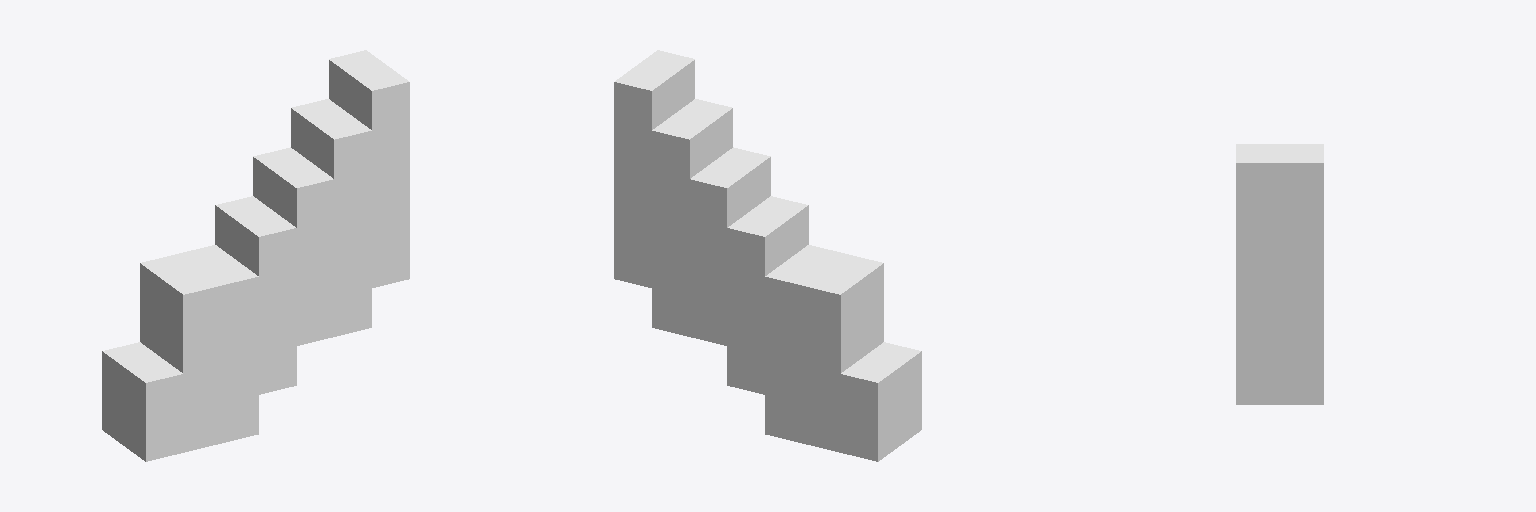
Rendered from dad-0.obj.
The picture shows the model from 3 angles: view 1: azimuth 30°, elevation 25°; view 2: azimuth 150°, elevation 25°; view 3: azimuth 270°, elevation 25°; orthographic projection.
Visible parts, largest first — view 1: object 1; view 2: object 1; view 3: object 1.
Part boxes in pixels (x1,y1,x2,y2): object 1: (102, 50, 409, 461); object 1: (614, 50, 921, 461); object 1: (1236, 144, 1323, 404).
Bounding box in the file's own units: 0.7 × 0.8 × 0.2.